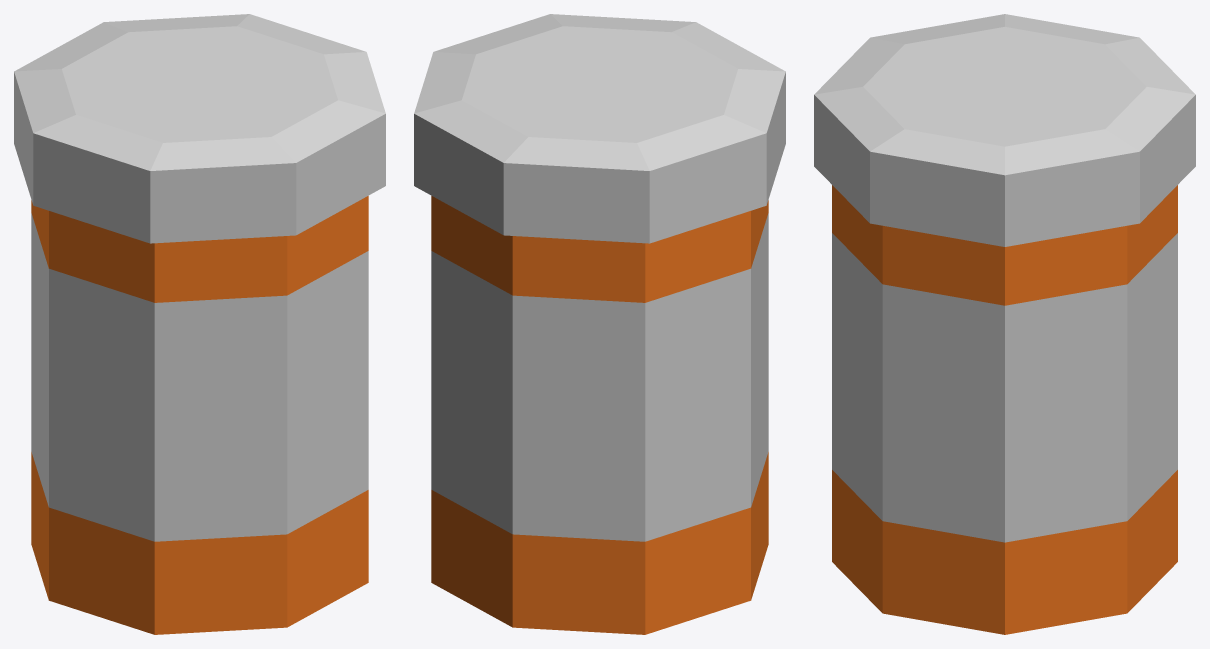
The model's file is survival-drugs.glb.
3 renders of one model, left to right at view 1: azimuth 30°, elevation 25°; view 2: azimuth 150°, elevation 25°; view 3: azimuth 270°, elevation 25°, orthographic.
Parts seen in each view (by area): view 1: drugs; view 2: drugs; view 3: drugs.
Part boxes in pixels (x1=…): drugs: x1=14, y1=14, x2=385, y2=634; drugs: x1=414, y1=14, x2=785, y2=634; drugs: x1=814, y1=14, x2=1195, y2=634.
Bounding box in the file's own units: 0.0662 × 0.0909 × 0.0662.
